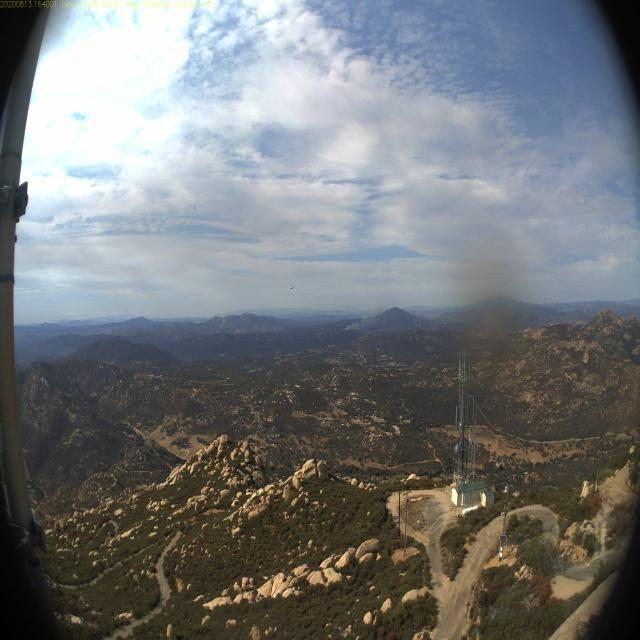smoke: (335, 301, 381, 344)
